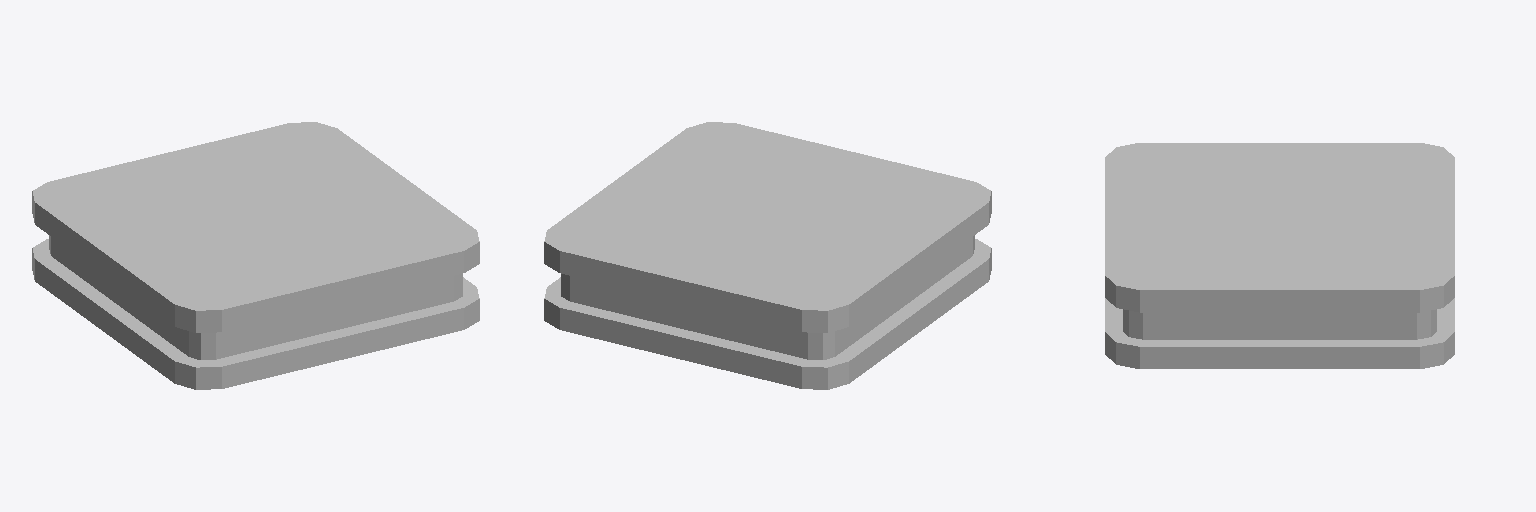
The model's file is blockMoving.obj.
3 renders of one model, left to right at view 1: azimuth 30°, elevation 25°; view 2: azimuth 150°, elevation 25°; view 3: azimuth 270°, elevation 25°, orthographic.
Visible parts, largest first — view 1: blockMoving; view 2: blockMoving; view 3: blockMoving.
Boxes of the visible parts, x1=… form: blockMoving: x1=32, y1=122, x2=479, y2=389; blockMoving: x1=544, y1=122, x2=991, y2=389; blockMoving: x1=1105, y1=143, x2=1454, y2=368.
Bounding box in the file's own units: 1 × 0.25 × 1.